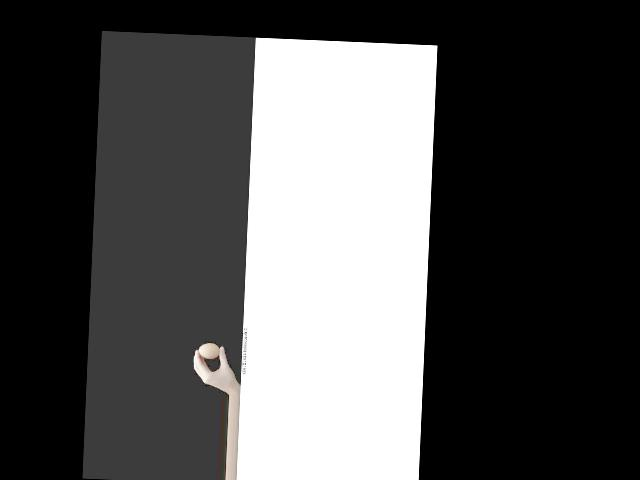egg: (197, 342, 220, 359)
